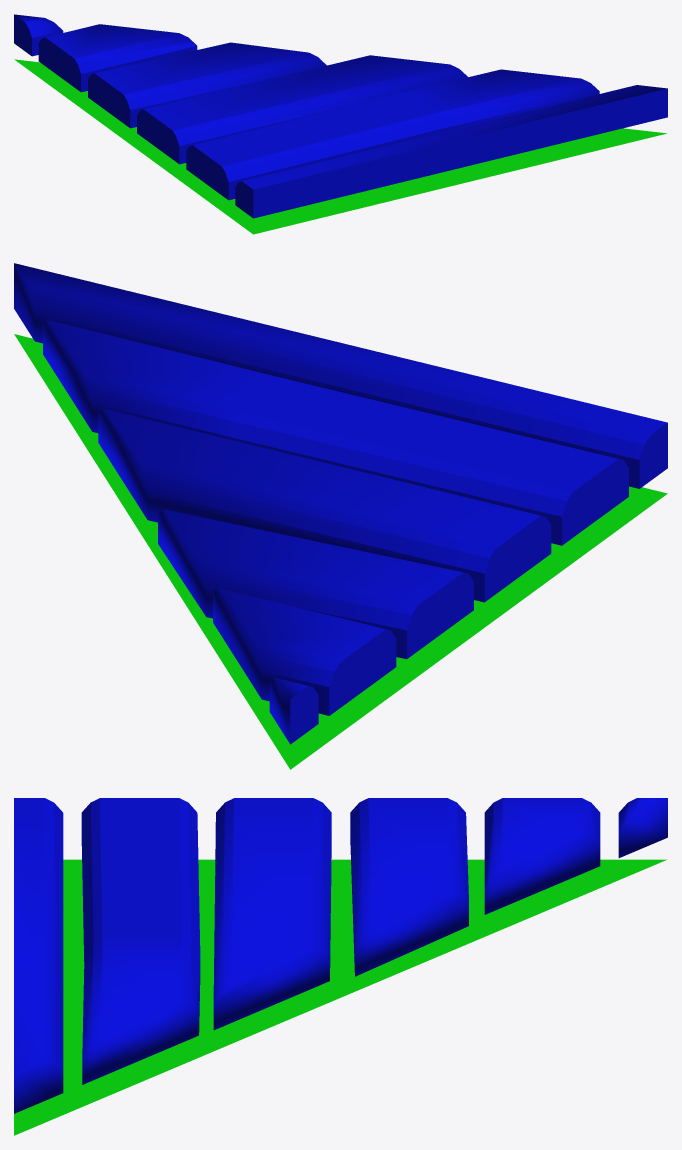
Rendered from MBSSecondPack_FloorWoodenPlanks_Triangle.fbx.
3 renders of one model, top to bottom at view 1: azimuth 30°, elevation 25°; view 2: azimuth 150°, elevation 25°; view 3: azimuth 270°, elevation 25°, orthographic. The views are drawn at different scales.
Visible parts, largest first — view 1: Cube.001; view 2: Cube.001; view 3: Cube.001.
Boxes of the visible parts, x1,y1,x2,y2 form: Cube.001: (14,14,667,234); Cube.001: (14,263,667,769); Cube.001: (14,798,667,1135).
Bounding box in the file's own units: 150 × 15.63 × 150.
